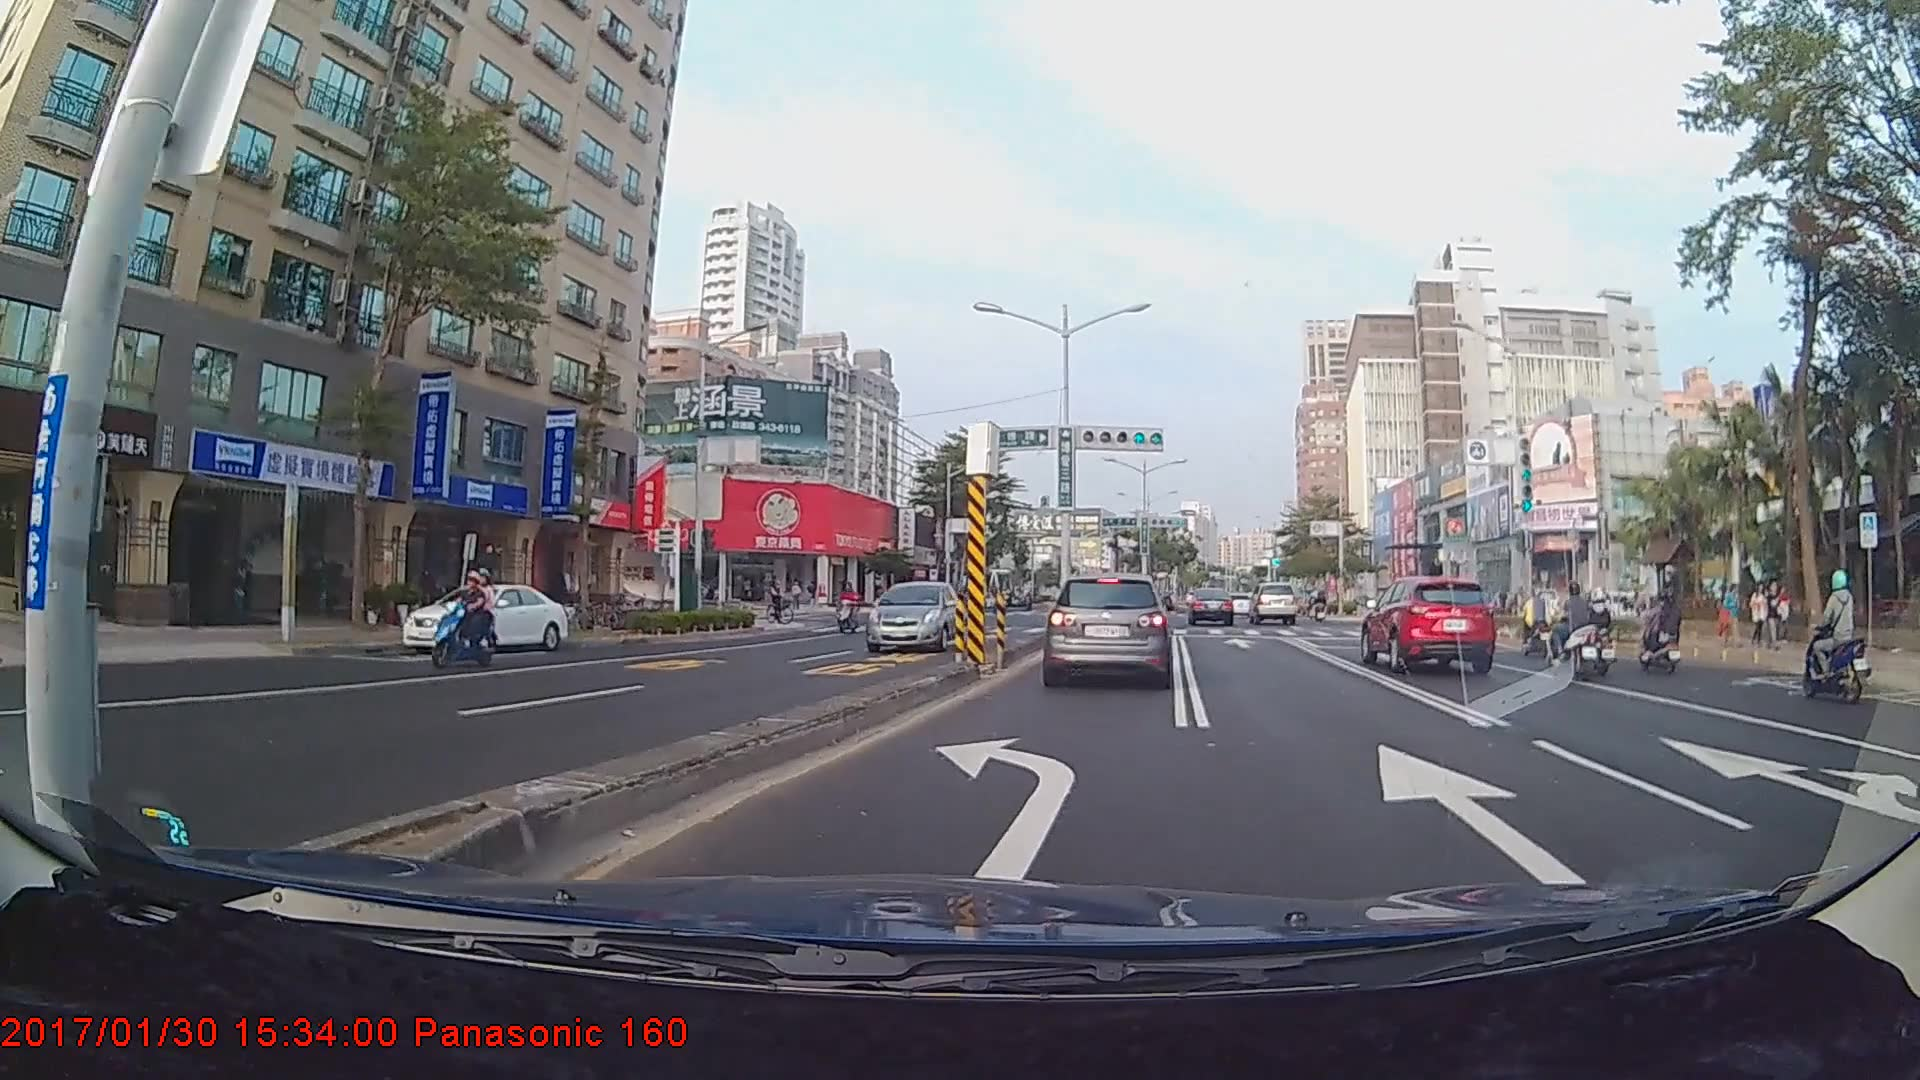pedestrian: (1718, 580, 1743, 650), (1767, 580, 1788, 646), (1750, 582, 1770, 645)
rider: (1803, 569, 1879, 703), (428, 568, 508, 674), (1544, 575, 1610, 676), (1634, 585, 1686, 673), (832, 575, 862, 638), (766, 576, 796, 629)
vehicle: (1359, 569, 1502, 676), (1042, 571, 1171, 689), (398, 582, 568, 655), (864, 579, 968, 650), (1249, 582, 1297, 626), (1186, 586, 1235, 627)
